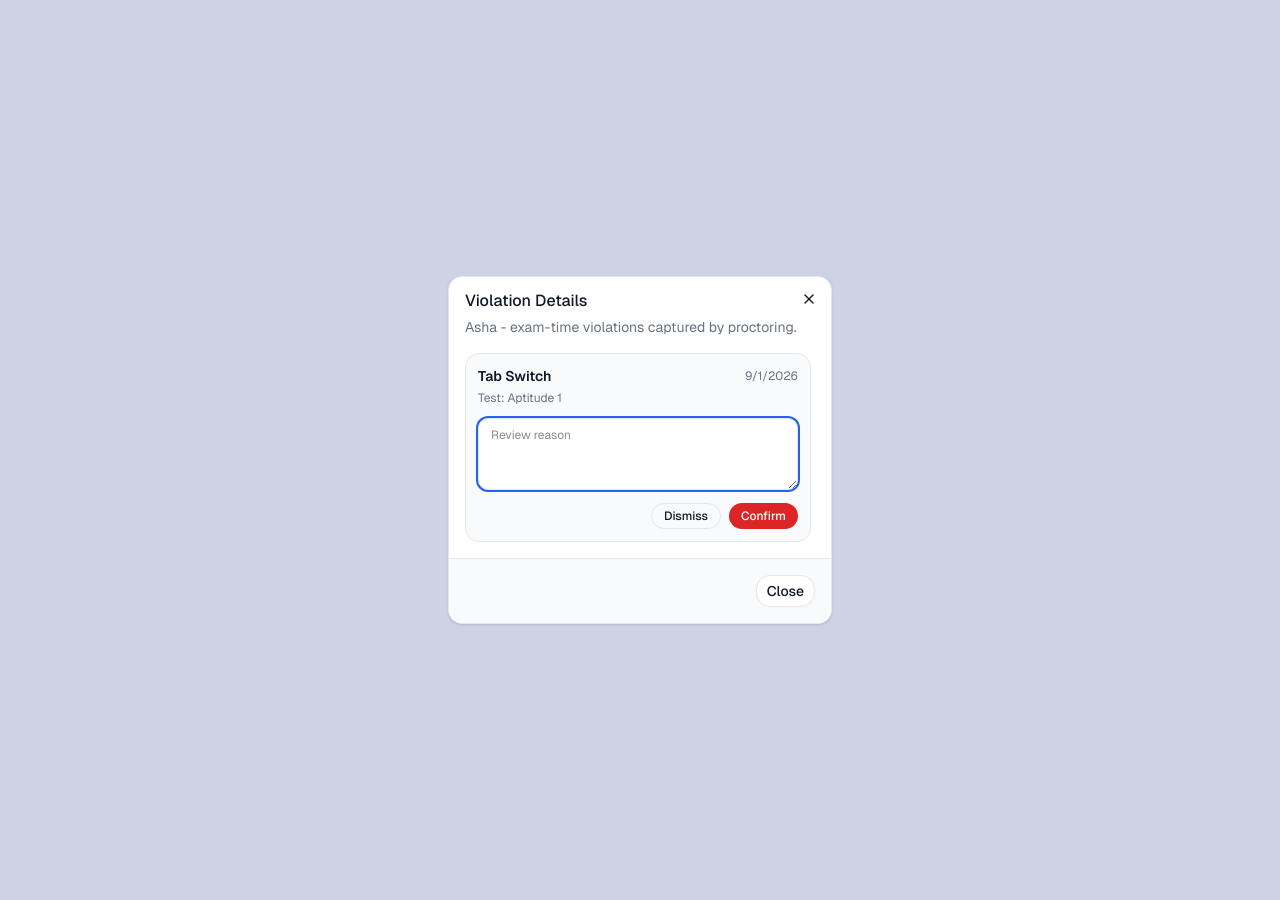
Test: ViolationReviewDialog › keeps the dialog open and shows an error when the review fails
The width and height of the screenshot is (1280, 900).
Type "Dismissing noise" into the text box with placeholder "Review reason" at (638,454), box [478,418,798,490]
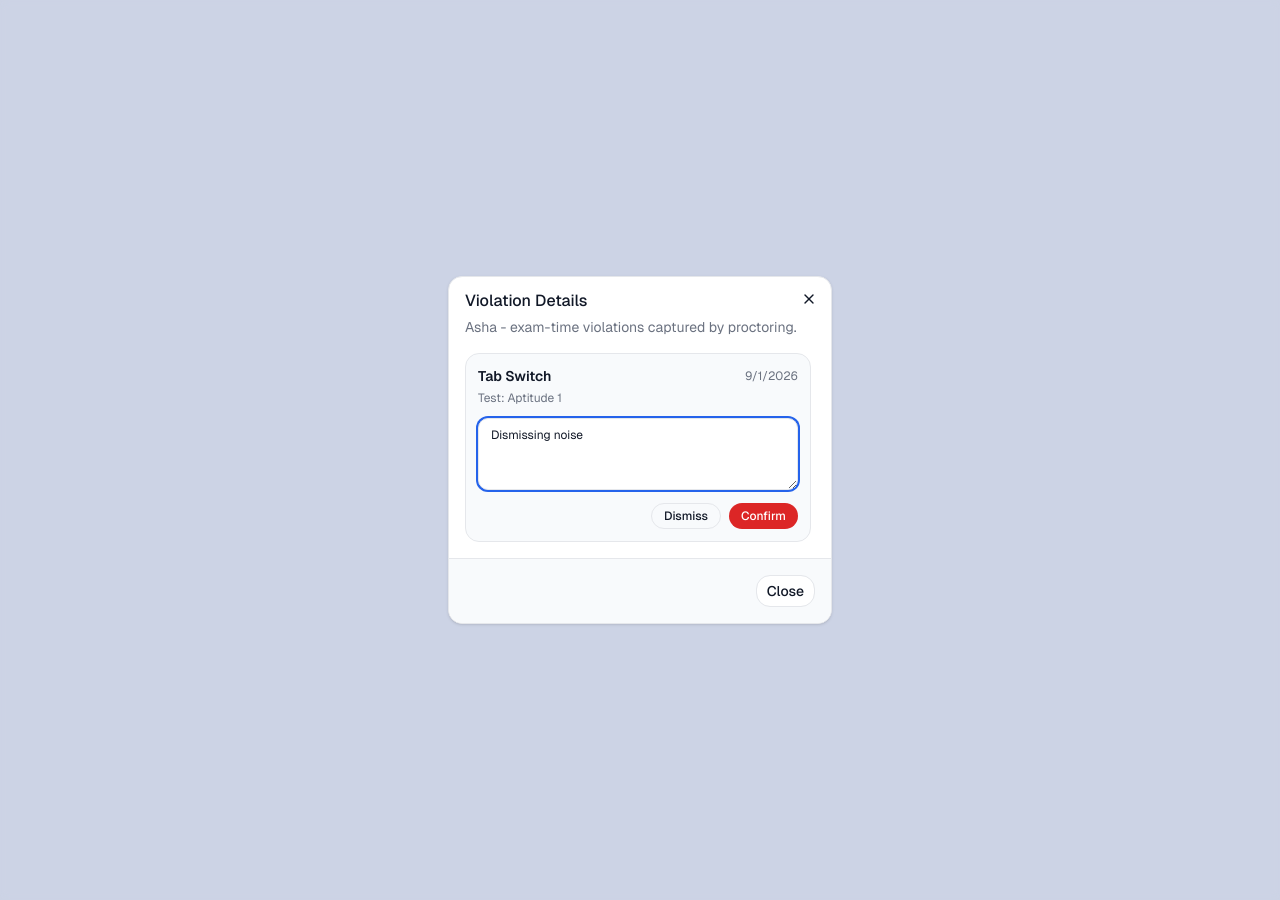
Click the button "Dismiss" at (686,516), box [651,503,721,529]
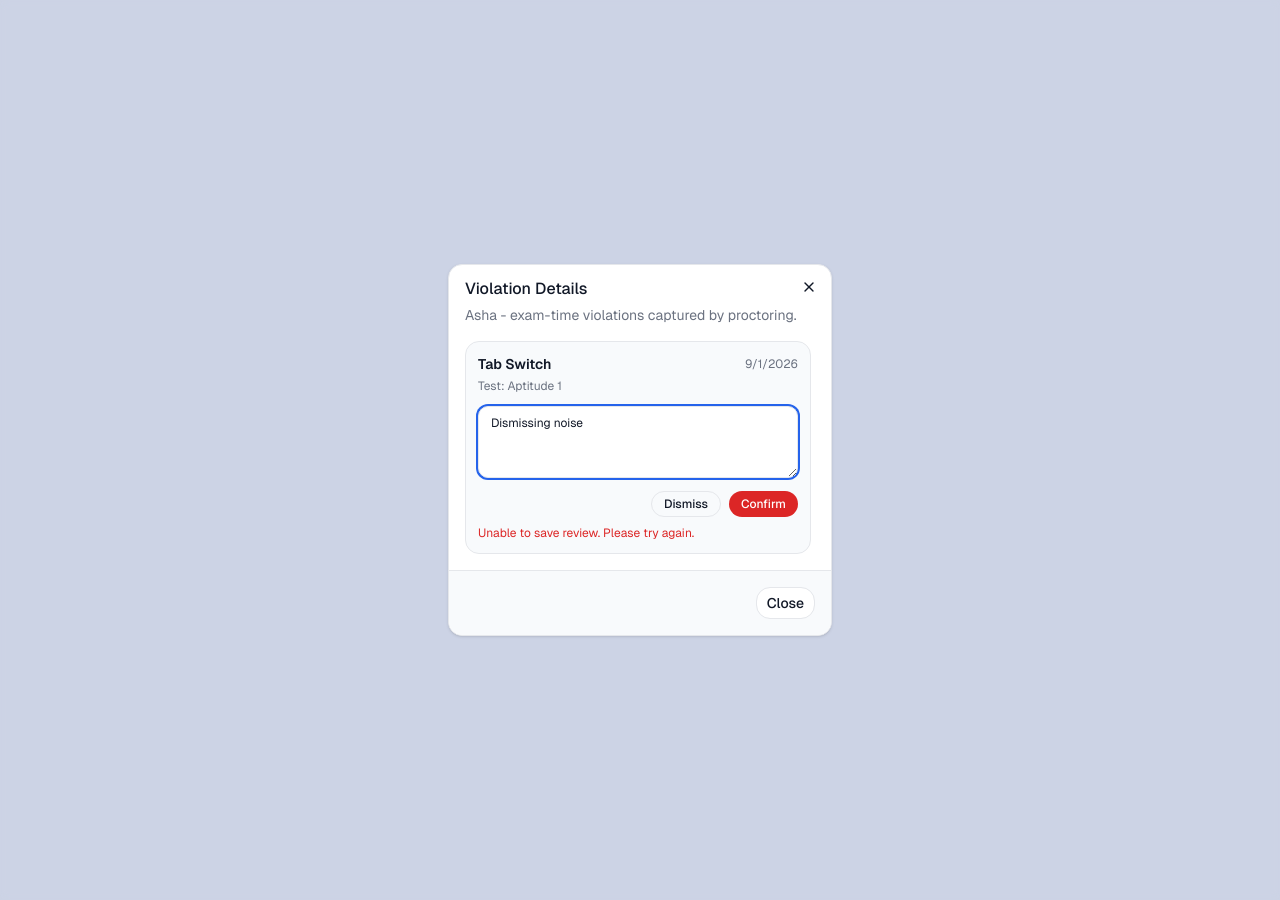
Expected: the text "Unable to save review. Please try again." is shown, [478,525,694,541]
